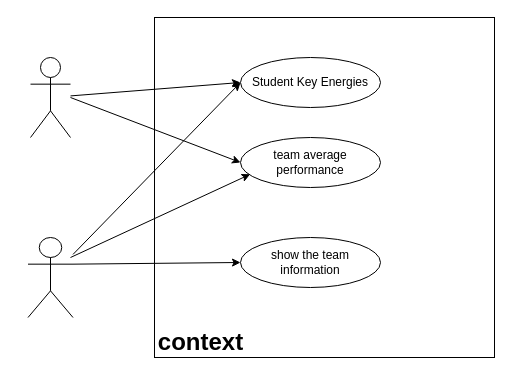
Image size: 512x375. Some labels were removed from this diagram. Each missing label, with the centre of its shape:
"instructor/TA" goes at point 50,97.
"students" goes at point 50,277.
